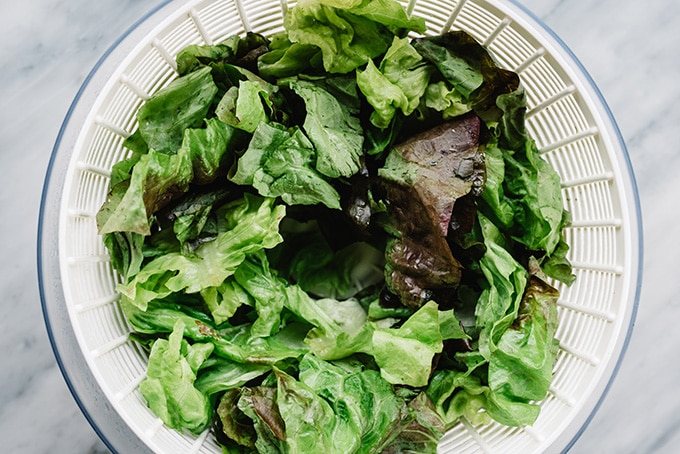chopped lettuce: (143, 66, 534, 435)
